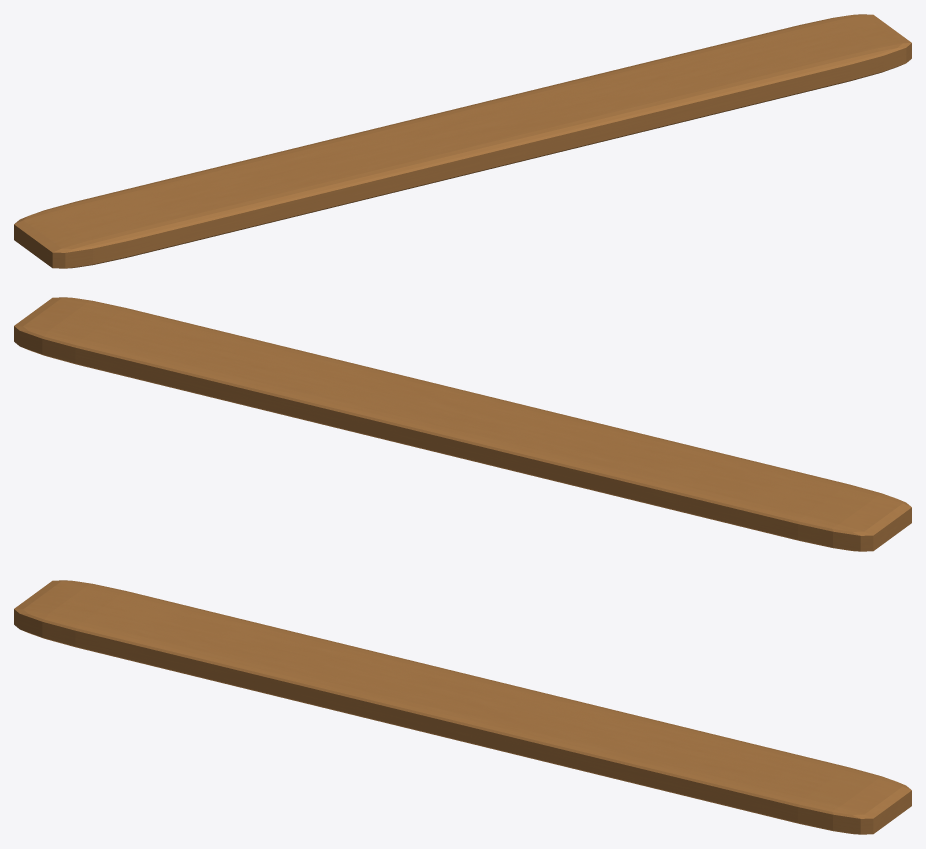
Rendered from SousToit.glb.
3 renders of one model, top to bottom at view 1: azimuth 30°, elevation 25°; view 2: azimuth 150°, elevation 25°; view 3: azimuth 330°, elevation 25°, orthographic.
Parts seen in each view (by area): view 1: PlaqueBas.001; view 2: PlaqueBas.001; view 3: PlaqueBas.001.
Boxes of the visible parts, x1,y1,x2,y2 form: PlaqueBas.001: (14, 14, 911, 268); PlaqueBas.001: (14, 297, 911, 551); PlaqueBas.001: (14, 580, 911, 834).
Bounding box in the file's own units: 164 × 4.16 × 17.4.
Materials: 1 (1 with a texture image).
